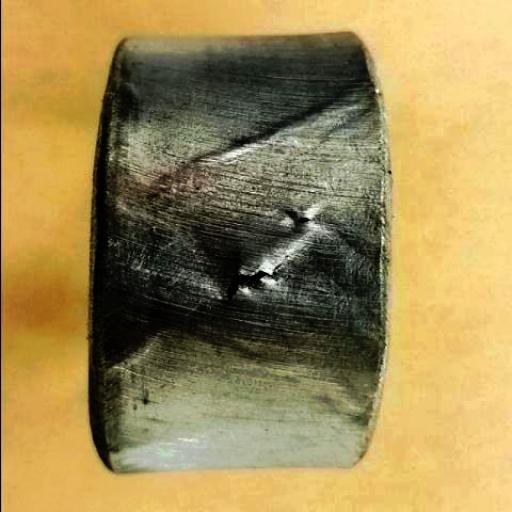crack: (219, 247, 281, 303), (286, 204, 325, 235)
